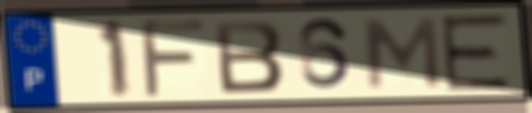1: (93, 18, 135, 101)
6: (296, 16, 354, 95)
B: (210, 18, 287, 95)
E: (437, 11, 513, 93)
F: (136, 17, 209, 101)
M: (361, 15, 444, 90)
